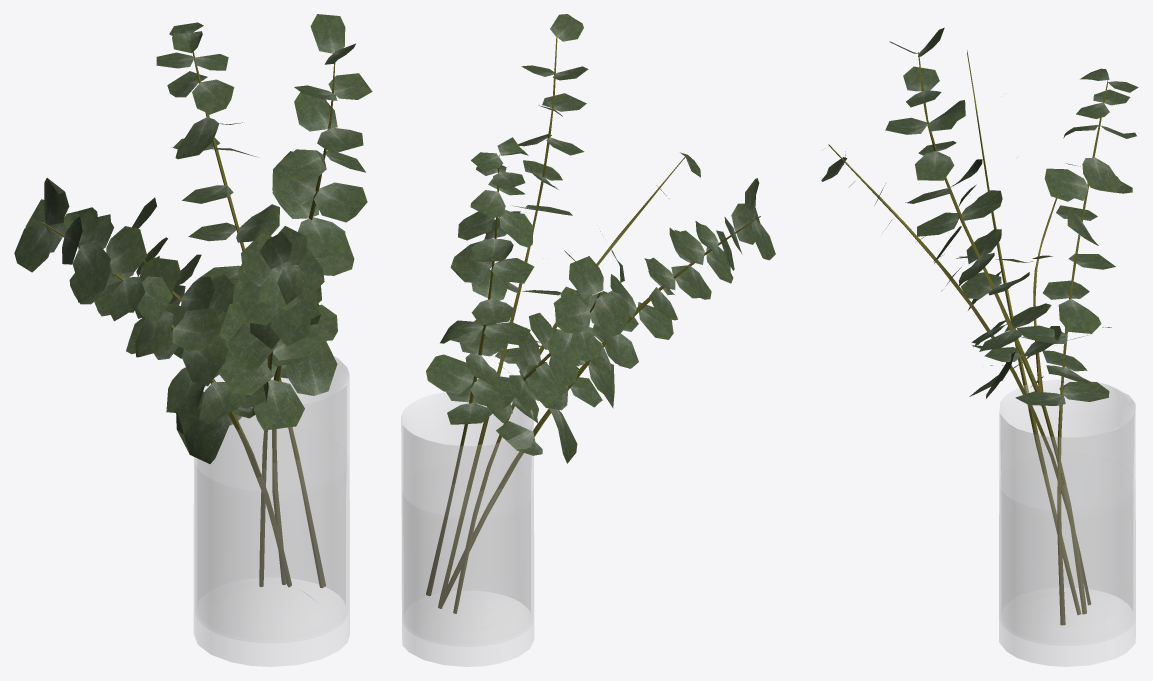
File: glass_n_plants.glb
3 views of the same model, side by side, from view 1: azimuth 30°, elevation 25°; view 2: azimuth 150°, elevation 25°; view 3: azimuth 270°, elevation 25° (orthographic). The views are drawn at different scales.
Visible parts, largest first — view 1: SK_Solid_3, SK_Glass_1, SK_Solid_2; view 2: SK_Solid_3, SK_Glass_1, SK_Solid_2; view 3: SK_Glass_1, SK_Solid_3, SK_Solid_2.
Part boxes in pixels (bbox=[...]): SK_Solid_3: bbox=[14, 14, 372, 463]; SK_Glass_1: bbox=[194, 356, 349, 666]; SK_Solid_2: bbox=[41, 32, 335, 587]; SK_Solid_3: bbox=[426, 14, 775, 463]; SK_Glass_1: bbox=[401, 392, 533, 666]; SK_Solid_2: bbox=[426, 35, 760, 613]; SK_Glass_1: bbox=[999, 379, 1135, 666]; SK_Solid_3: bbox=[821, 27, 1138, 405]; SK_Solid_2: bbox=[828, 50, 1107, 625].
Size of the model in its own units: 0.3178 by 0.5524 by 0.2794.
Materials: 4 (4 with a texture image).
